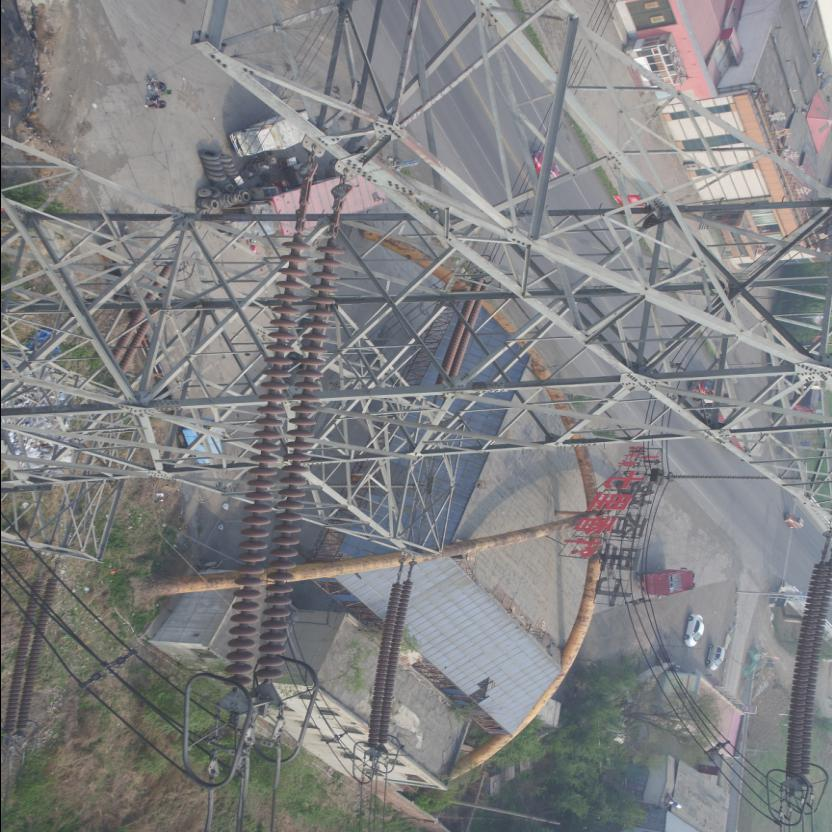insulator: (218, 206, 348, 697), (782, 546, 831, 784), (5, 562, 64, 738), (362, 566, 417, 750)
